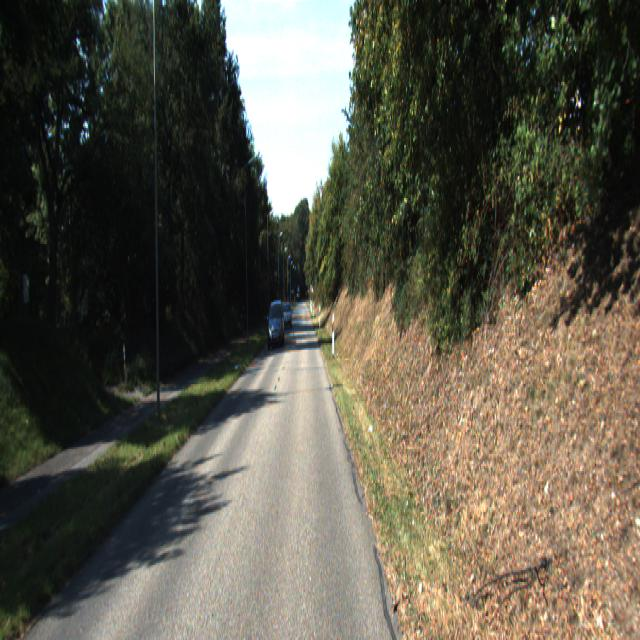Car: (268, 300, 284, 349), (282, 302, 292, 329)
